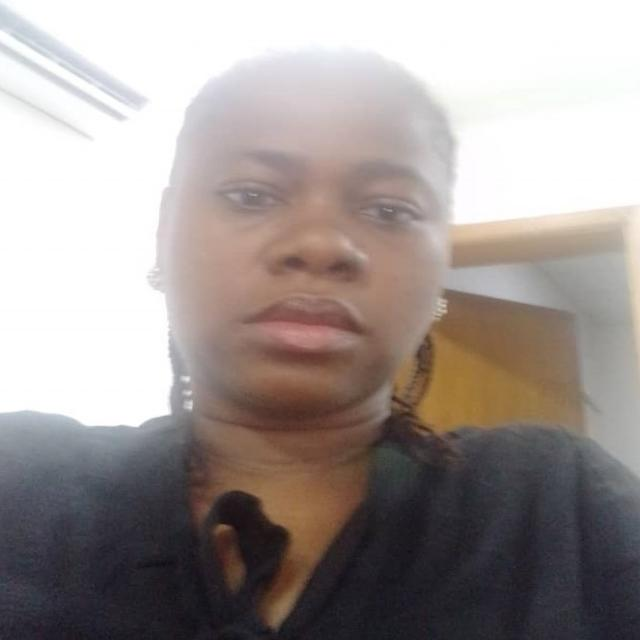sad: (157, 44, 456, 412)
